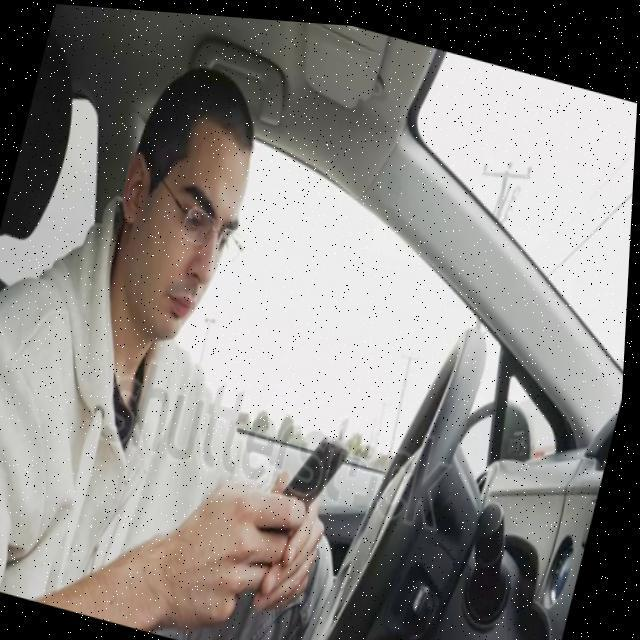PhoneCall: (278, 412, 360, 536)
